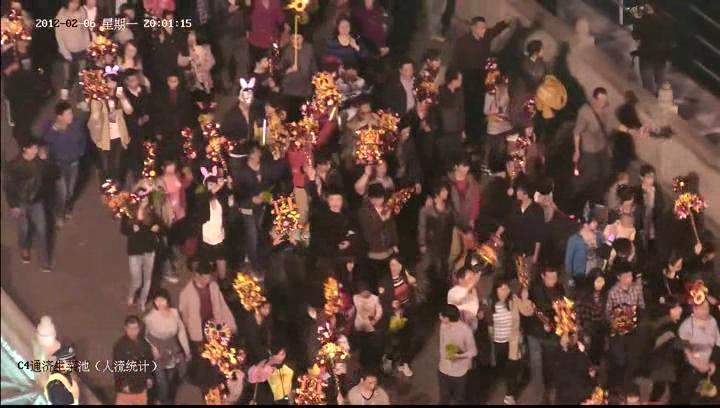person: (6, 138, 66, 273), (37, 104, 92, 226), (235, 139, 286, 261), (80, 68, 128, 195), (376, 254, 423, 379), (187, 169, 243, 273), (487, 280, 532, 404), (153, 156, 195, 286), (114, 187, 159, 308), (569, 86, 619, 193), (147, 288, 192, 405), (625, 1, 680, 95), (320, 187, 369, 284), (209, 1, 260, 94), (383, 58, 422, 175), (415, 183, 456, 294), (180, 261, 231, 350), (360, 181, 409, 272), (0, 35, 43, 136), (447, 159, 488, 264), (54, 1, 95, 100), (348, 277, 389, 375), (438, 304, 478, 404), (118, 68, 153, 180), (112, 314, 154, 407), (517, 41, 572, 112), (437, 66, 472, 174), (687, 295, 720, 408), (198, 331, 246, 408), (154, 74, 199, 151), (580, 268, 614, 366), (652, 295, 683, 402), (246, 0, 291, 71), (607, 266, 649, 341), (283, 30, 321, 111), (453, 14, 506, 70), (43, 343, 88, 408), (150, 11, 192, 79), (636, 163, 664, 264), (326, 16, 375, 73), (257, 342, 298, 408), (511, 183, 546, 259), (567, 211, 606, 279), (310, 289, 352, 352), (239, 295, 275, 361), (341, 368, 389, 408), (607, 186, 638, 246), (448, 265, 480, 317), (111, 5, 142, 47)
